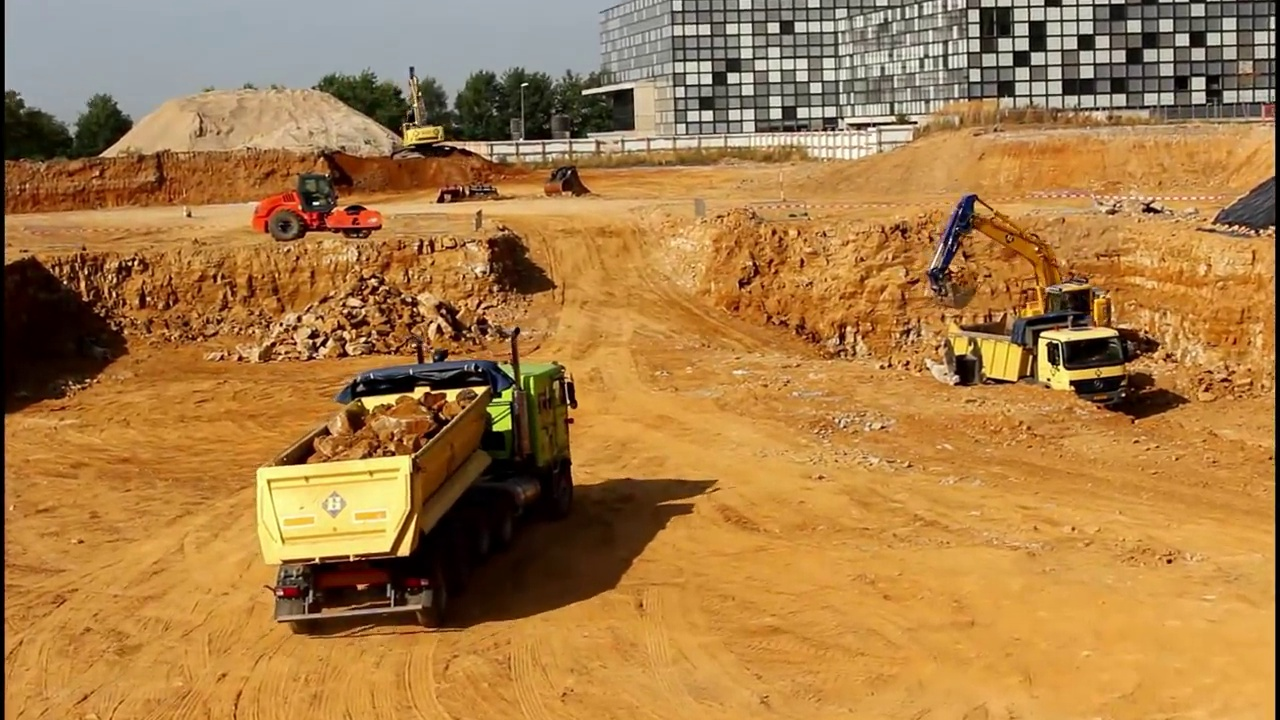compactor: (251, 176, 385, 244)
excavator: (922, 193, 1124, 378), (389, 62, 461, 164)
truck: (251, 324, 585, 637), (946, 317, 1133, 428)
